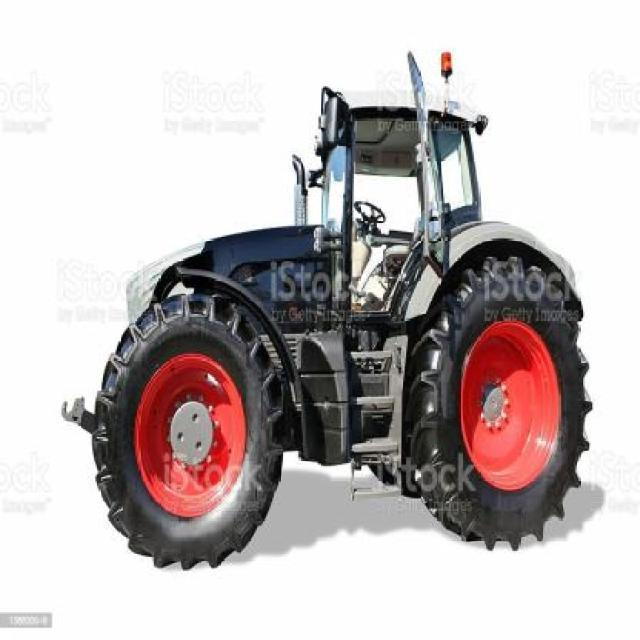Tratores - v5 YOLO V8L 2024-11-13: (58, 0, 629, 638)
